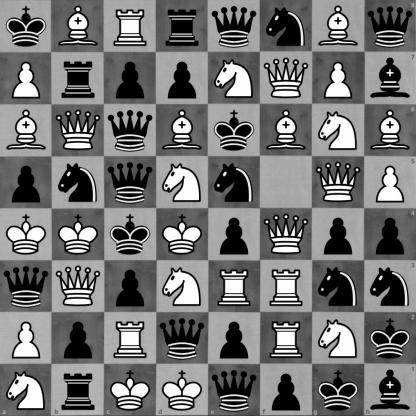B: (364, 104, 416, 156), (1, 105, 52, 156), (53, 1, 104, 52), (157, 105, 208, 156), (261, 105, 312, 156), (313, 1, 364, 52)
K: (156, 364, 209, 416), (104, 364, 156, 416), (1, 209, 52, 260), (53, 209, 104, 260), (157, 209, 208, 260)
N: (0, 364, 52, 416), (157, 157, 208, 208), (157, 261, 208, 312), (209, 53, 260, 104), (313, 105, 364, 156), (313, 313, 364, 364)
P: (364, 156, 416, 209), (1, 53, 52, 104), (1, 313, 52, 364), (313, 53, 364, 104)
Q: (53, 105, 104, 156), (53, 261, 104, 312), (261, 53, 312, 104), (261, 209, 312, 260), (313, 157, 364, 208)
R: (105, 1, 156, 52), (105, 313, 156, 364), (209, 261, 260, 312), (261, 261, 312, 312), (261, 313, 312, 364)
b: (364, 52, 416, 104), (364, 364, 416, 416)
board: (0, 0, 415, 415)
k: (312, 364, 364, 416), (364, 312, 416, 364), (1, 1, 52, 52), (105, 209, 156, 260), (209, 105, 260, 156)
n: (364, 260, 416, 312), (53, 157, 104, 208), (209, 157, 260, 208), (261, 1, 312, 52), (313, 261, 364, 312)
p: (260, 364, 312, 416), (364, 209, 416, 260), (1, 157, 52, 208), (53, 313, 104, 364), (105, 53, 156, 104), (105, 261, 156, 312), (157, 53, 208, 104), (209, 209, 260, 260), (209, 313, 260, 364), (313, 209, 364, 260)
q: (364, 0, 416, 52), (209, 364, 260, 416), (1, 261, 52, 312), (105, 105, 156, 156), (105, 157, 156, 208), (157, 313, 208, 364), (209, 1, 260, 52)
r: (52, 364, 104, 416), (53, 53, 104, 104), (157, 1, 208, 52)
